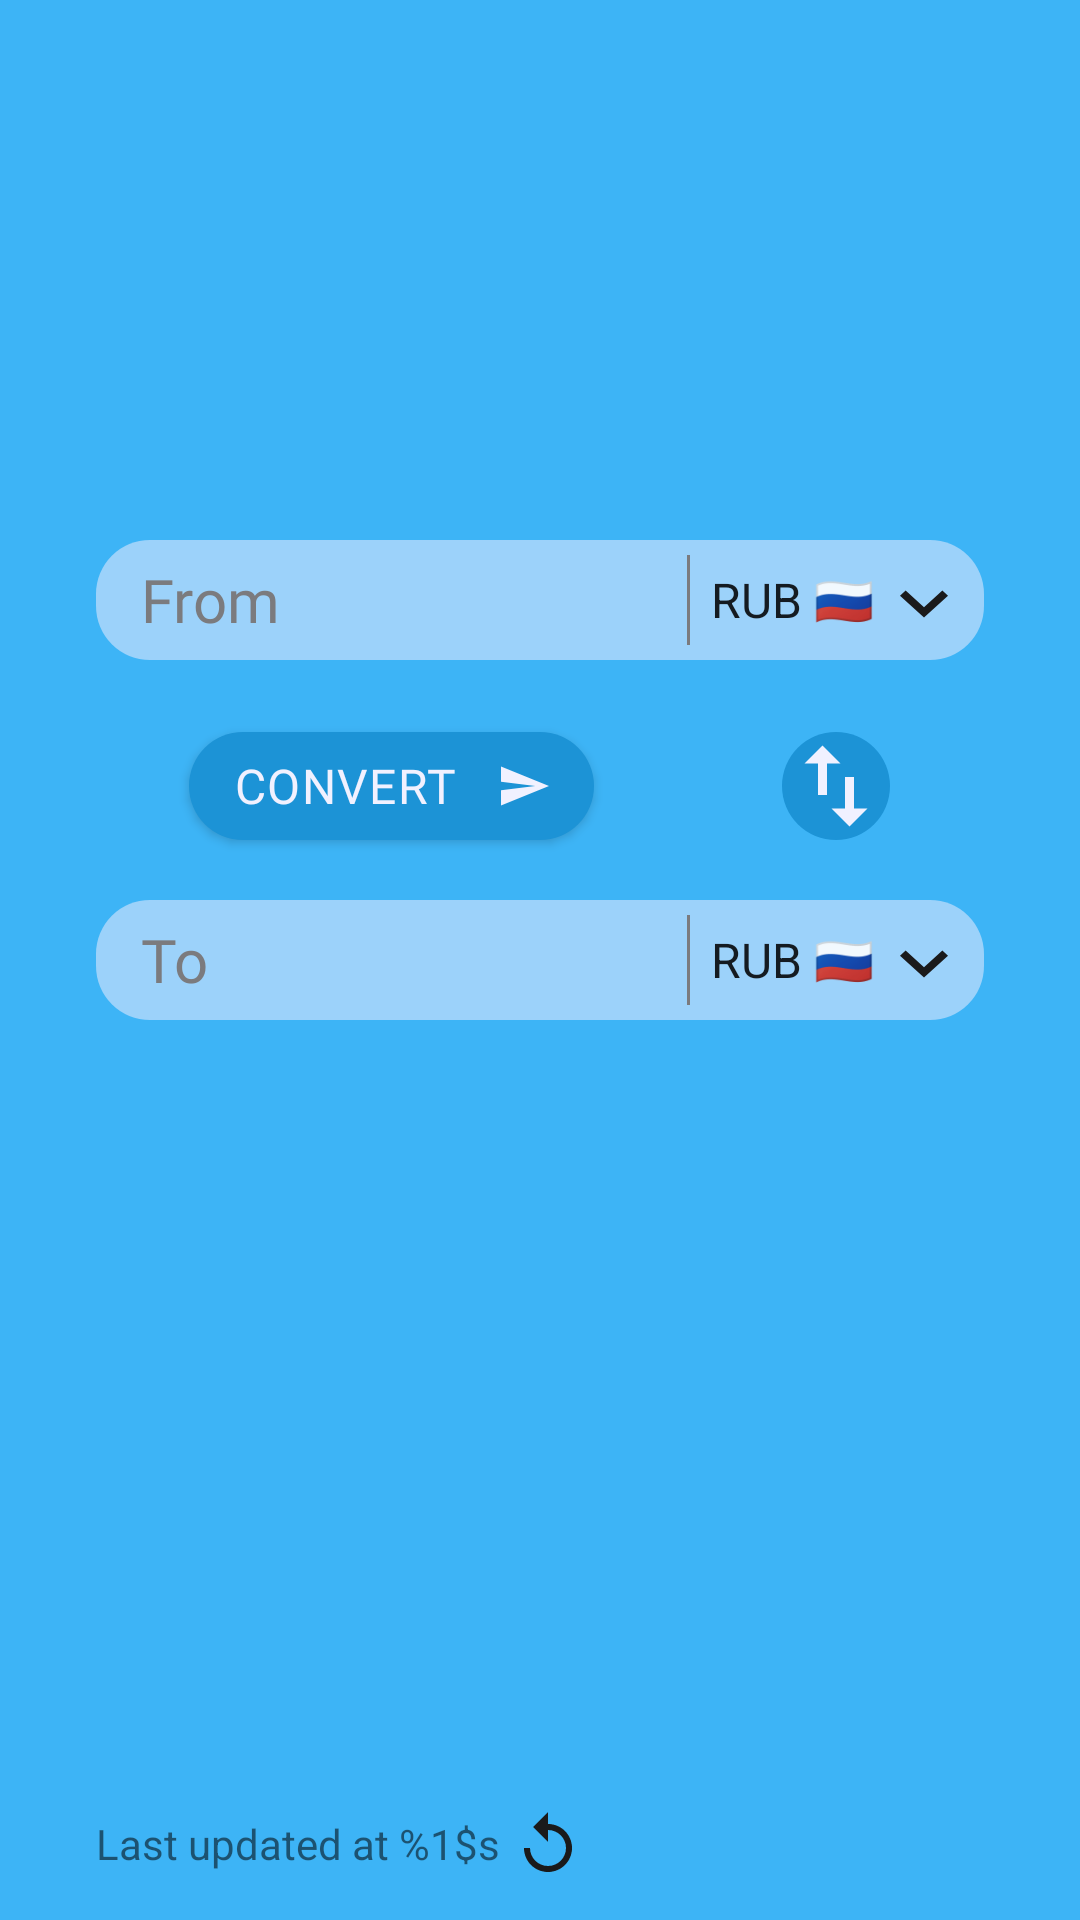

Icon bounding boxes for this 1080 × 1920 phone screenshot, format [x1,y1,x2,y2]:
Swap currencies: [782,732,890,840]
Update exchange rates: [524,1812,572,1872]
